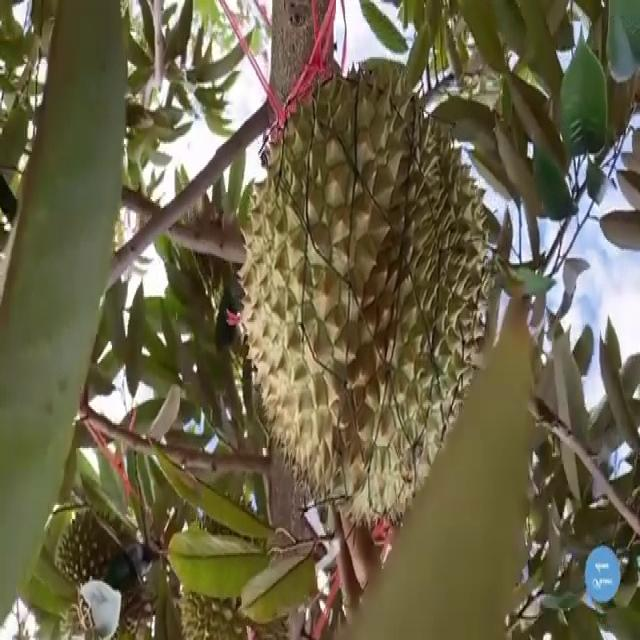durian: (238, 59, 496, 531)
